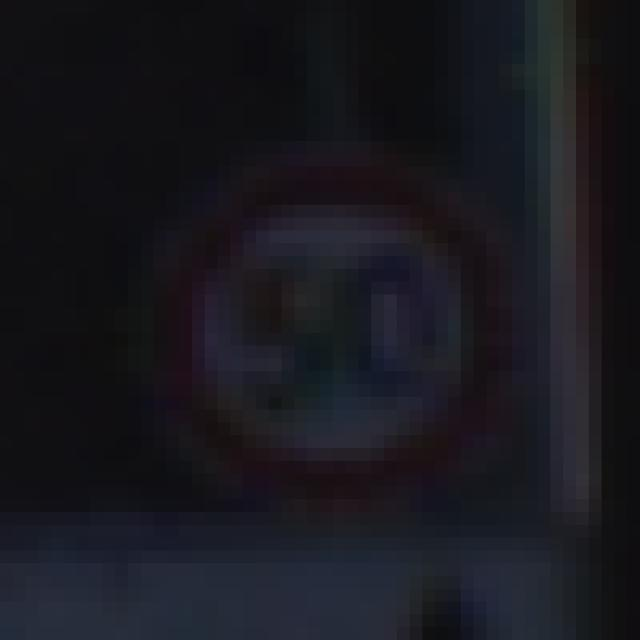Limite-50: (154, 137, 516, 520)
